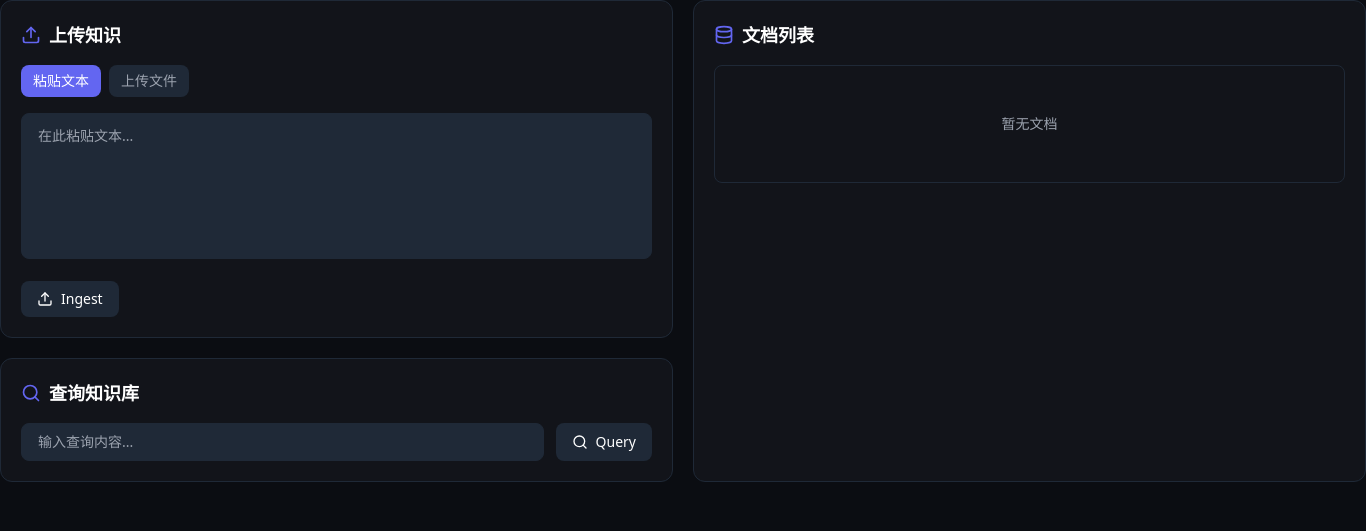
Scenario: KnowledgeBaseManager › ingests text and shows success
Type "hello world" into the text box with placeholder "在此粘贴文本...".
click(336, 186); type("hello world")  # box [21, 113, 652, 259]
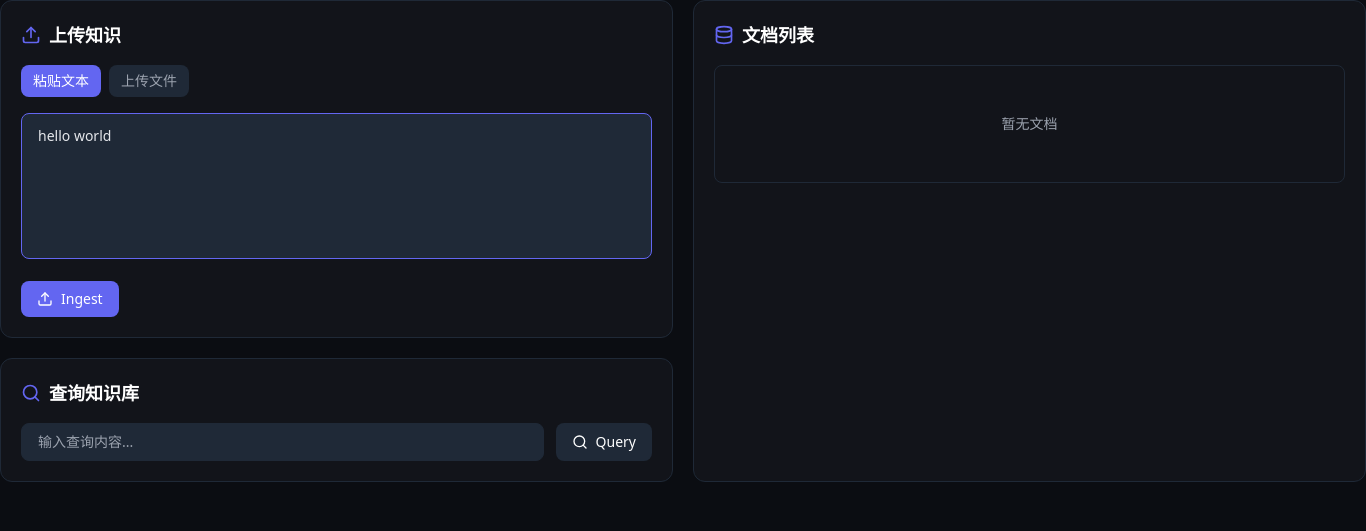
Click the button "Ingest".
click(70, 299)  # box [21, 281, 119, 317]
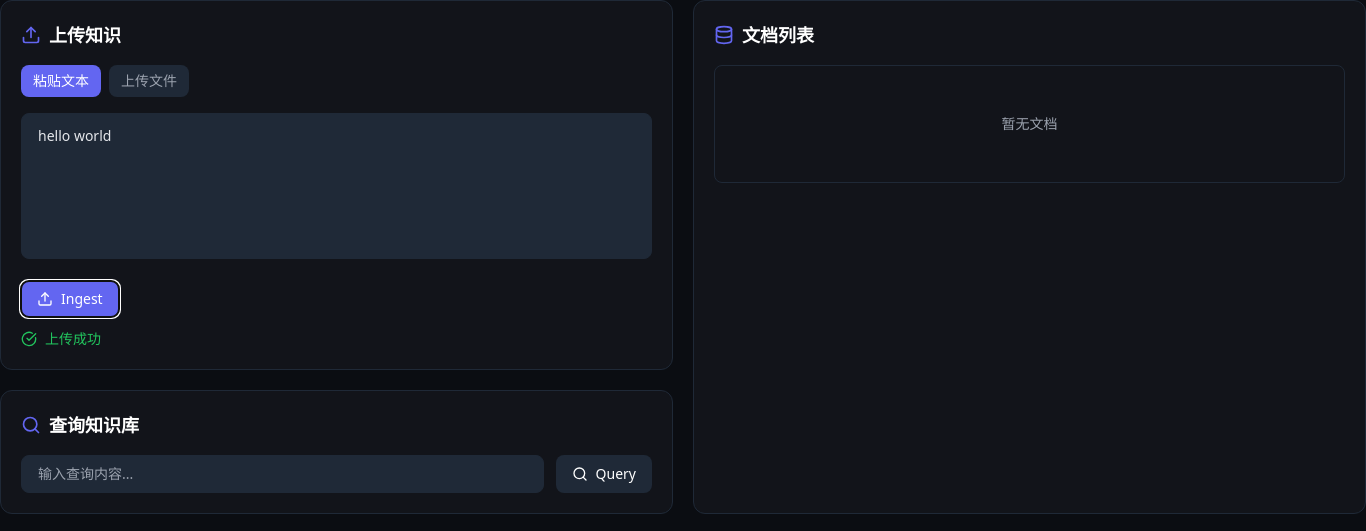
Expected: the text "上传成功" is shown, [45, 329, 101, 349]
